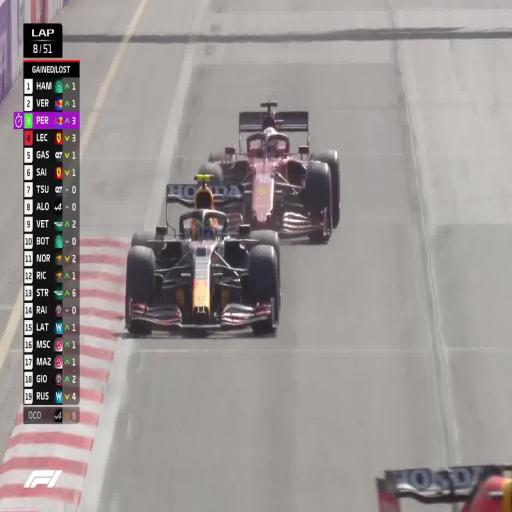f1_car: (125, 208, 280, 334), (202, 101, 339, 241), (377, 465, 512, 511), (166, 182, 212, 205), (217, 187, 243, 203), (199, 176, 207, 178), (182, 189, 182, 189), (196, 176, 196, 178)
